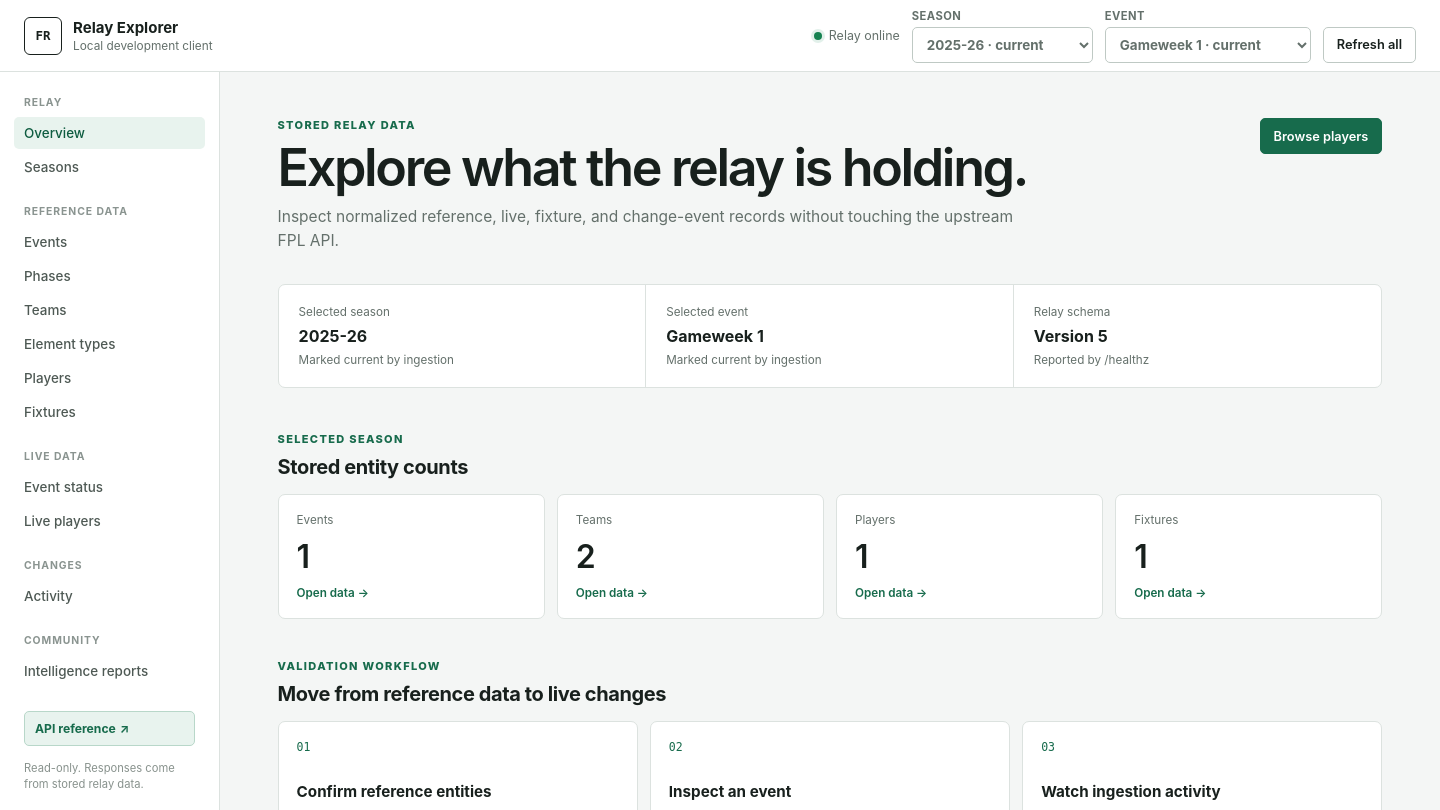
relay explorer application › selects only the explicitly current season and event
Expected: the heading "Explore what the relay is holding." is shown, [278,141,1038,194]
Expected: the dropdown labelled "Season" shows "2025-26 · current", [912,26,1093,62]
Click the button "Refresh all": (1369, 44) [1323,26,1416,62]
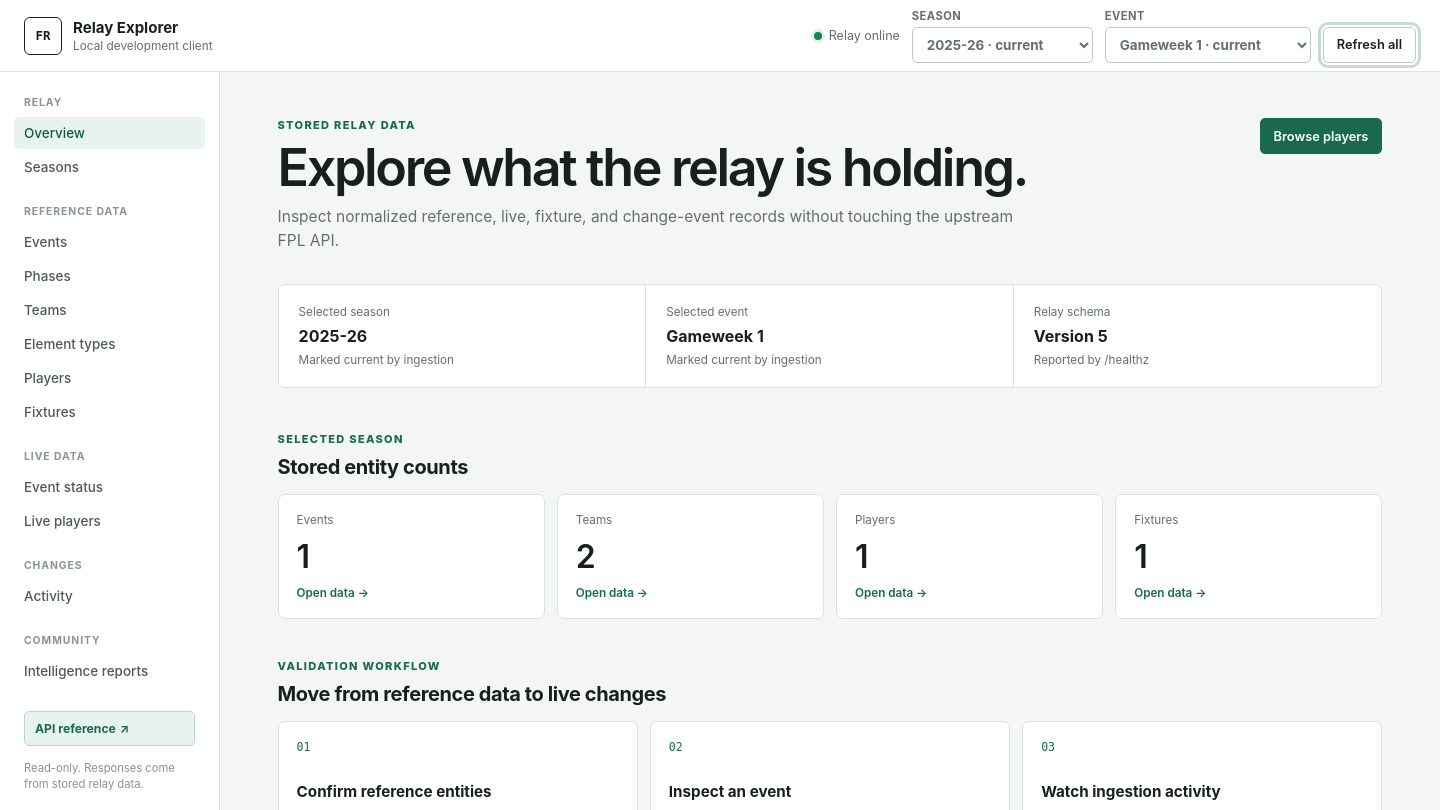
Select "Select event" in the dropdown labelled "Event": (1208, 44) [1105,26,1311,62]
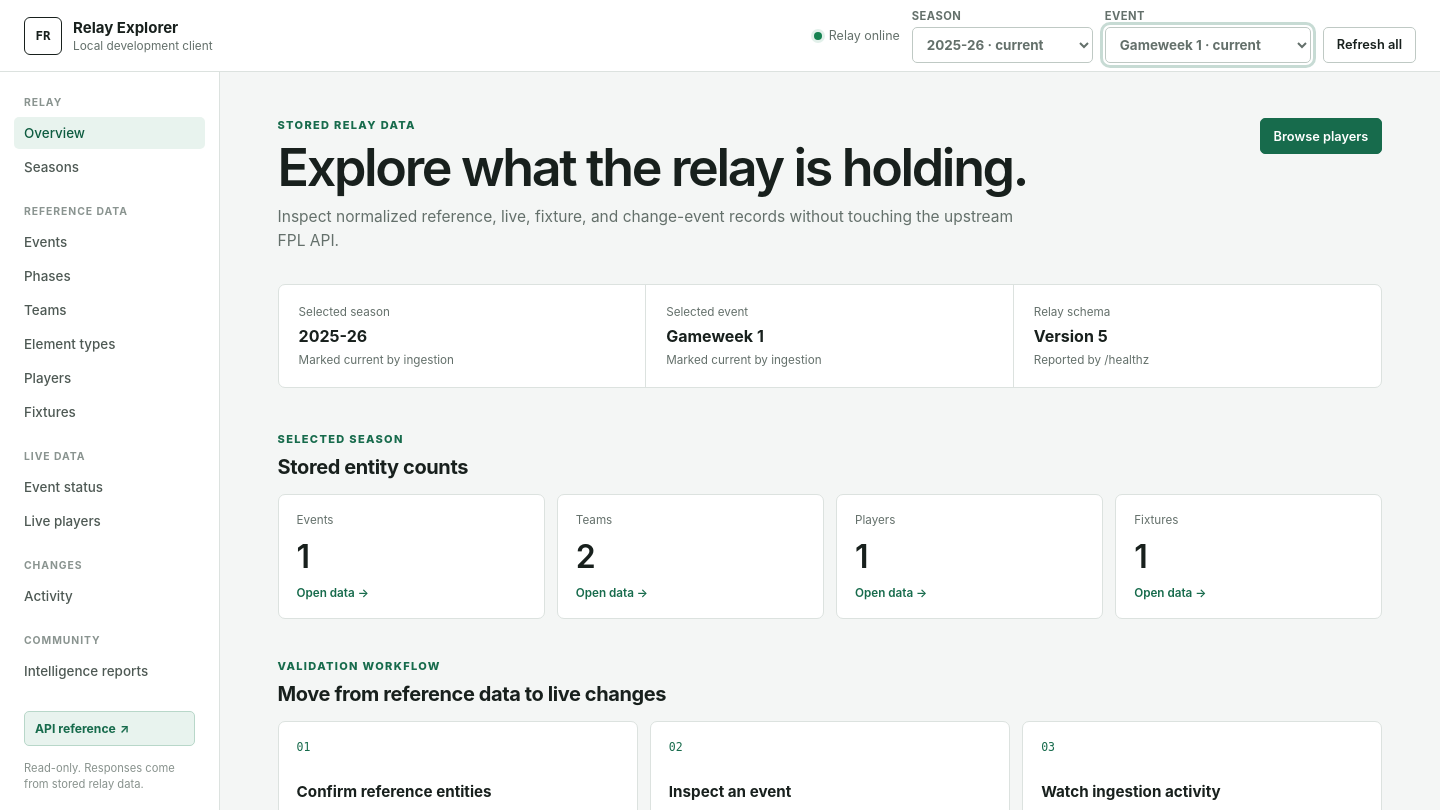
Select "Gameweek 1 · current" in the dropdown labelled "Event": (1208, 44) [1105,26,1311,62]
Select "Select season" in the dropdown labelled "Season": (1002, 44) [912,26,1093,62]
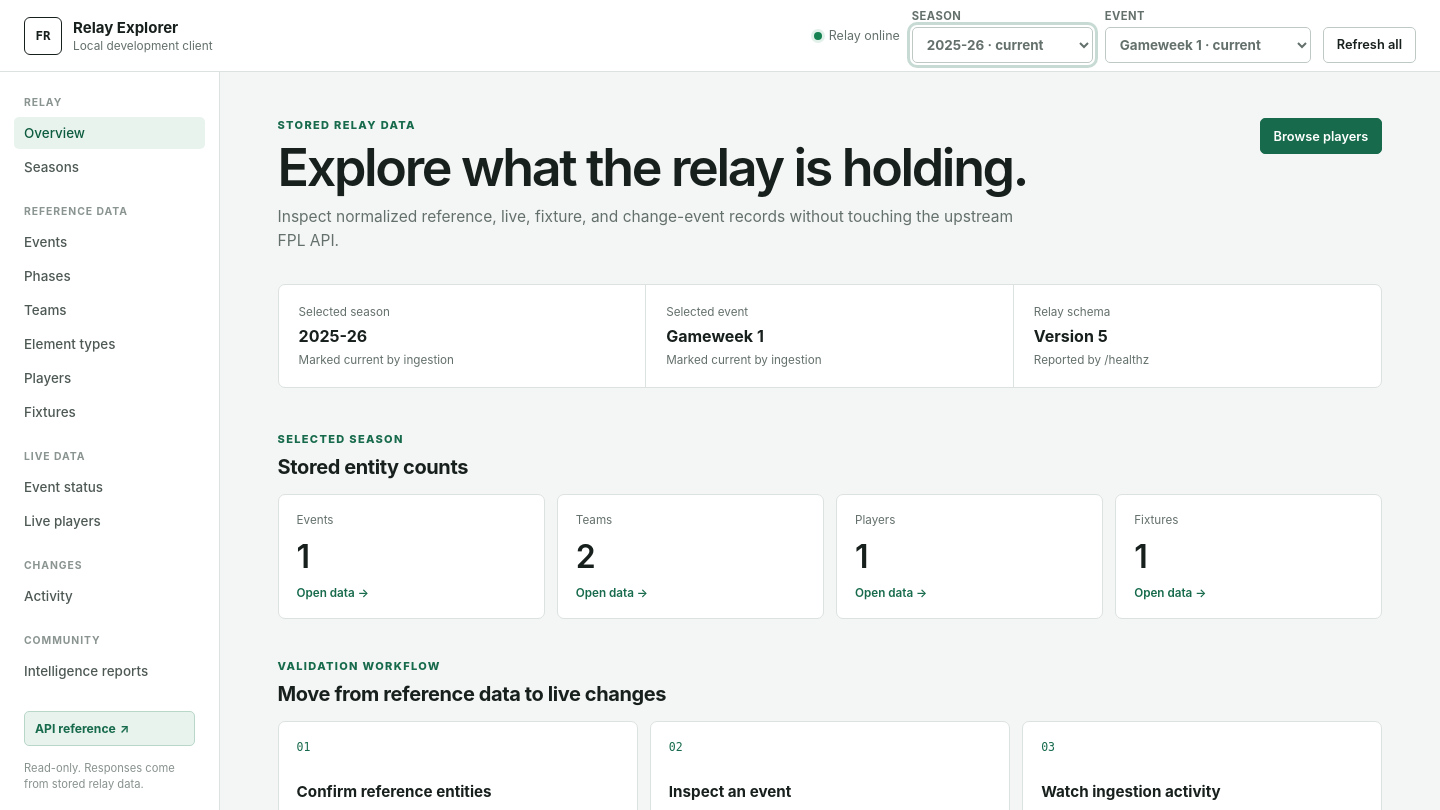
Select "2025-26 · current" in the dropdown labelled "Season": (1002, 44) [912,26,1093,62]
Click the link "Teams": (45, 310) [24,302,67,318]
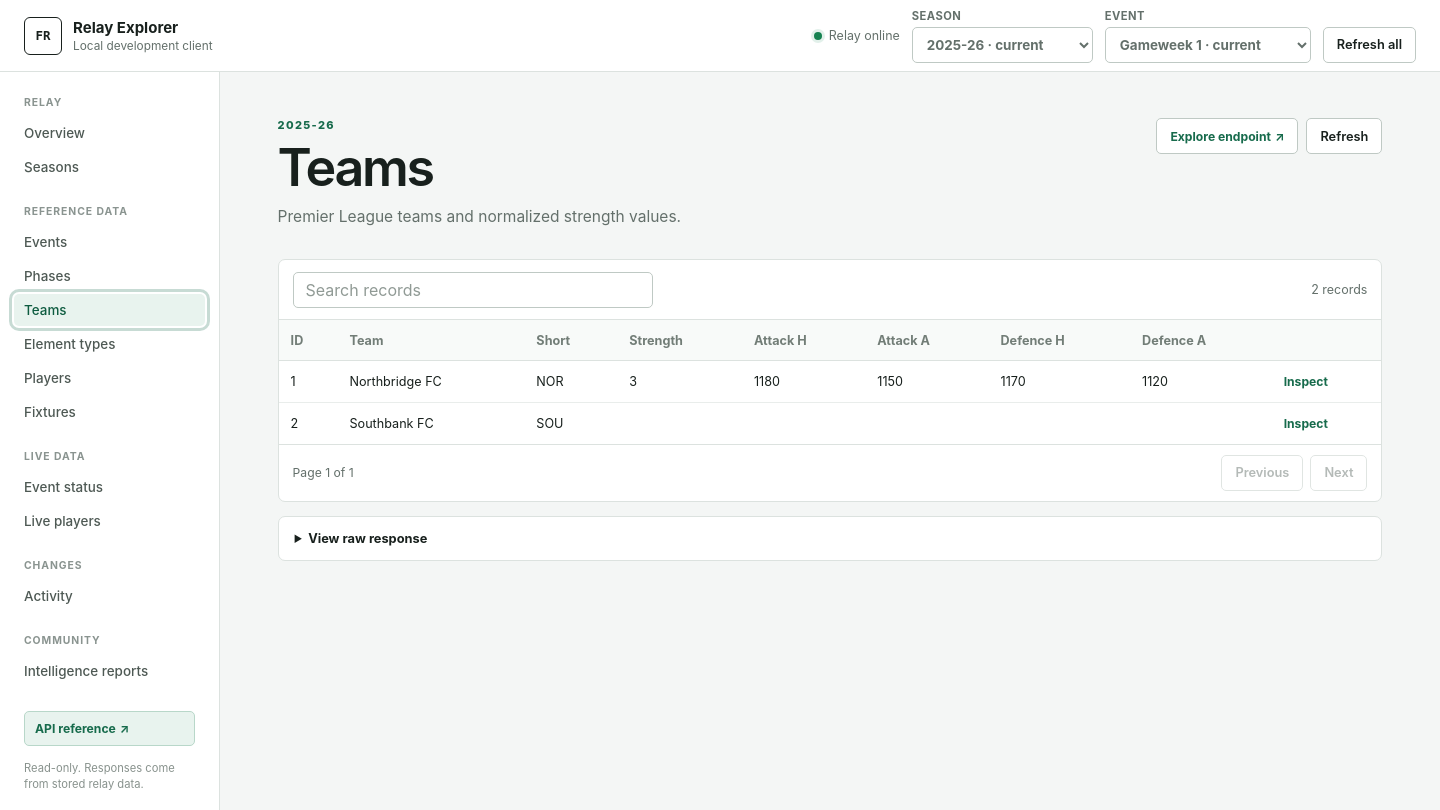
Expected: the heading "Teams" is shown, [278,136,433,199]
